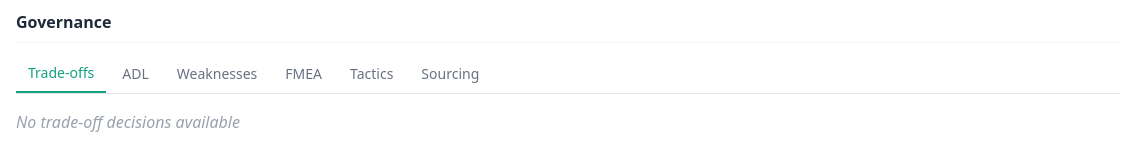
Scenario: GovernanceView › switchesToWeaknessesTab_empty
This screenshot has width=1137, height=160.
Click the button with test id "tab-weaknesses".
click(217, 74)  # box left=165, top=55, right=269, bottom=93
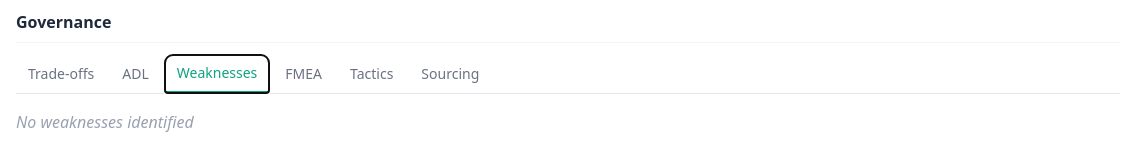
Expected: the text "No weaknesses identified" is shown, left=16, top=111, right=194, bottom=133
